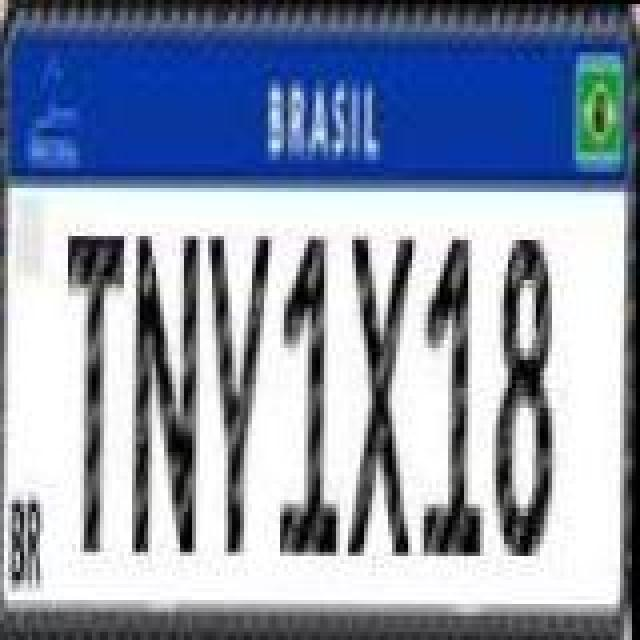1: (276, 232, 348, 556), (420, 228, 492, 552)
8: (490, 228, 558, 564)
N: (132, 226, 204, 562)
T: (64, 224, 128, 560)
X: (348, 232, 420, 556)
Y: (204, 222, 276, 558)
